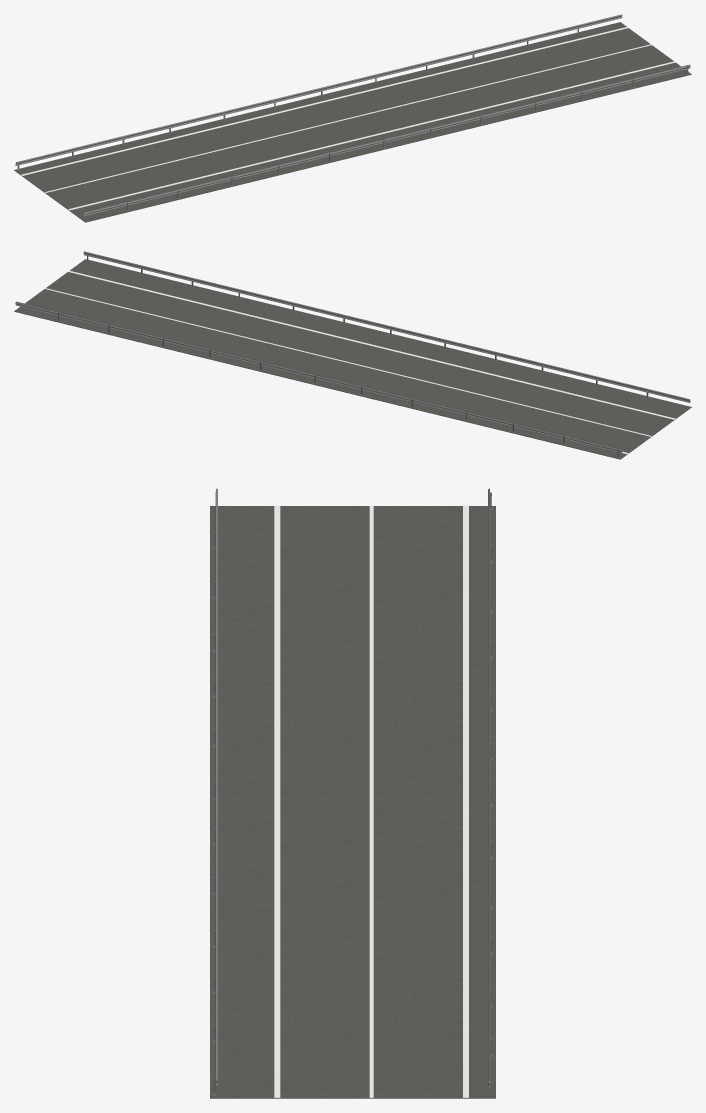
Rendered from autoroute2Voies.obj.
3 renders of one model, top to bottom at view 1: azimuth 30°, elevation 25°; view 2: azimuth 150°, elevation 25°; view 3: azimuth 270°, elevation 25°, orthographic. The views are drawn at different scales.
Visible parts, largest first — view 1: autoroute2Voies_Plane.032, rails2voisAutoroute_Plane.025; view 2: autoroute2Voies_Plane.032, rails2voisAutoroute_Plane.025; view 3: autoroute2Voies_Plane.032, rails2voisAutoroute_Plane.025.
Boxes of the visible parts, left/top/right/bottom form: autoroute2Voies_Plane.032: left=14, top=22, right=691, bottom=222; rails2voisAutoroute_Plane.025: left=15, top=14, right=690, bottom=216; autoroute2Voies_Plane.032: left=14, top=259, right=691, bottom=459; rails2voisAutoroute_Plane.025: left=15, top=251, right=690, bottom=458; autoroute2Voies_Plane.032: left=210, top=505, right=495, bottom=1098; rails2voisAutoroute_Plane.025: left=213, top=488, right=492, bottom=1095.
Size of the model in its own units: 5200 by 75.22 by 1061.
